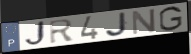4: (79, 14, 101, 41)
G: (158, 6, 184, 32)
J: (104, 11, 130, 38), (23, 20, 48, 48)
N: (132, 7, 158, 36)
R: (48, 18, 77, 45)
